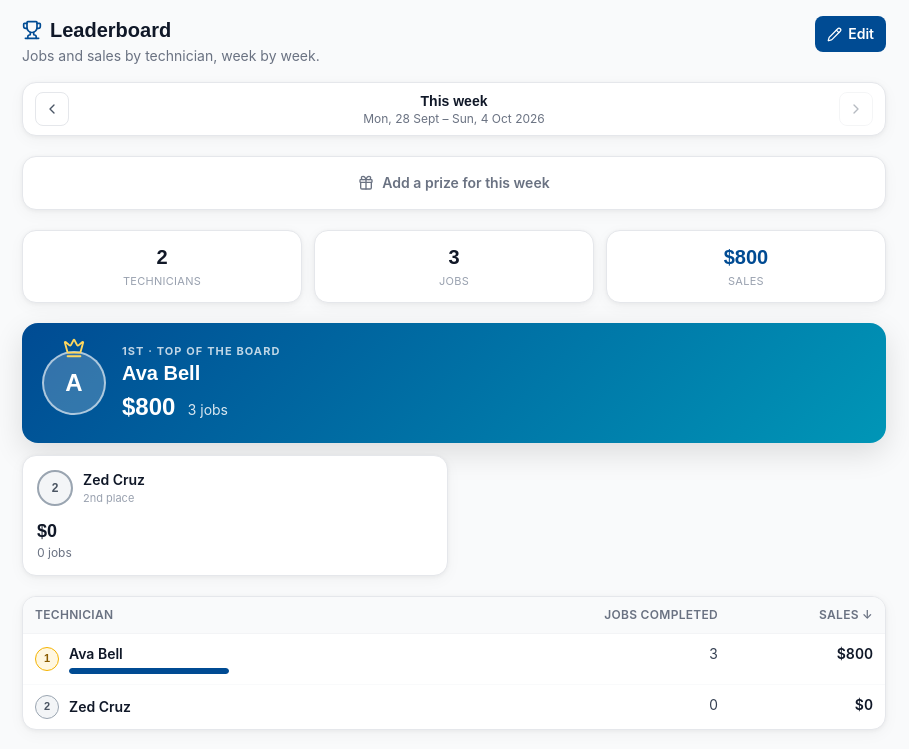
Scenario: LeaderboardPage — manager editing › refuses to save an invalid figure and says which row is wrong
Click the button "Edit": click(851, 34) [815, 16, 886, 52]
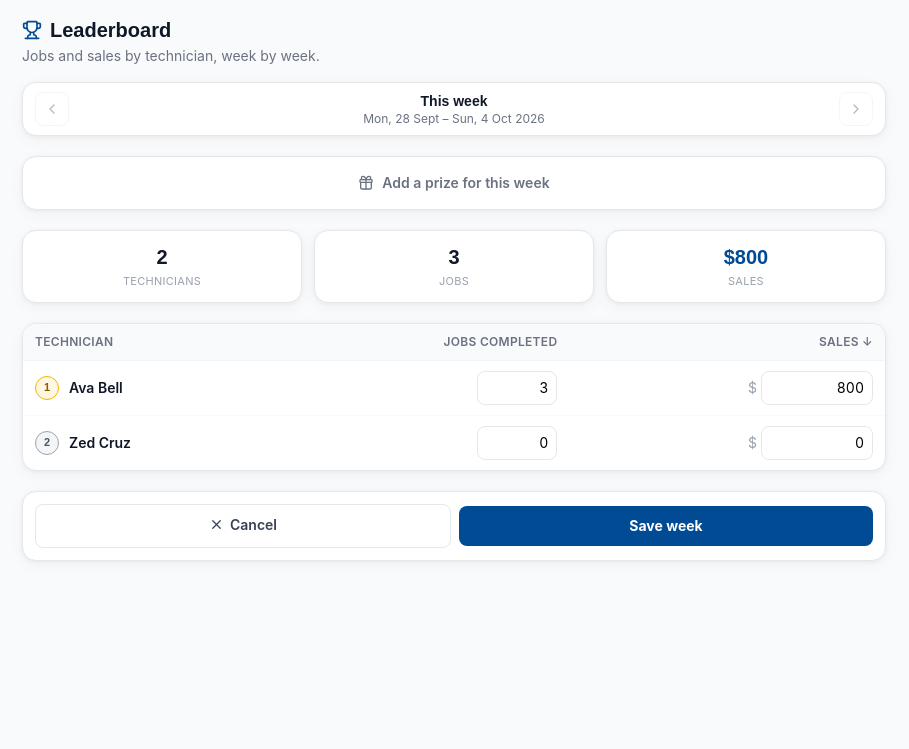
Replace the text in the 1st field named "Jobs completed for Ava Bell" with "3.5": (517, 388) [477, 370, 557, 404]
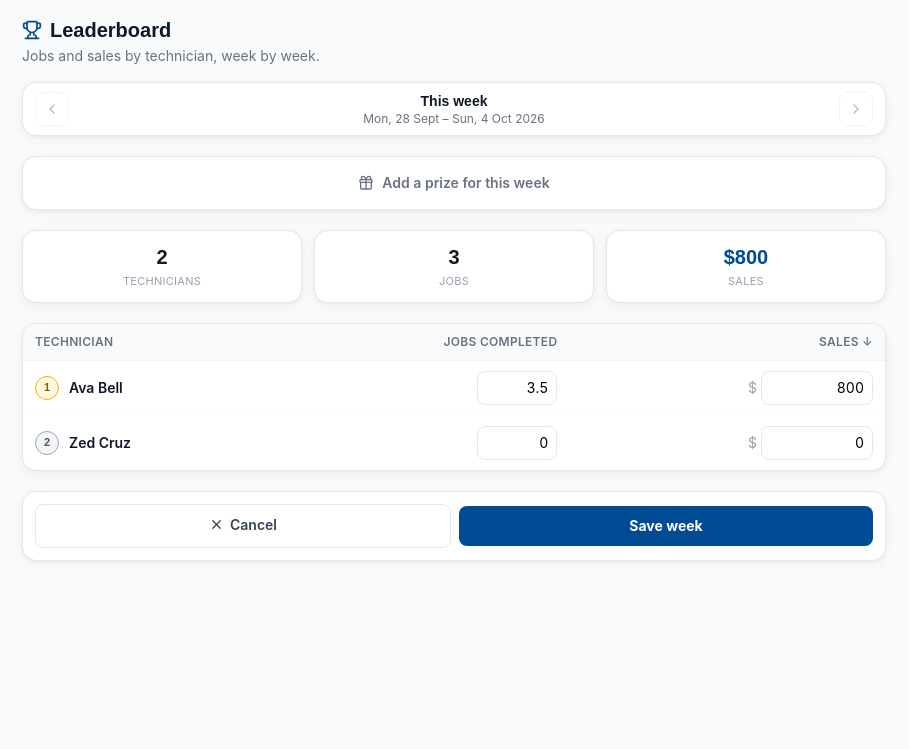
Click the button "Save week": click(666, 526) [459, 506, 873, 546]
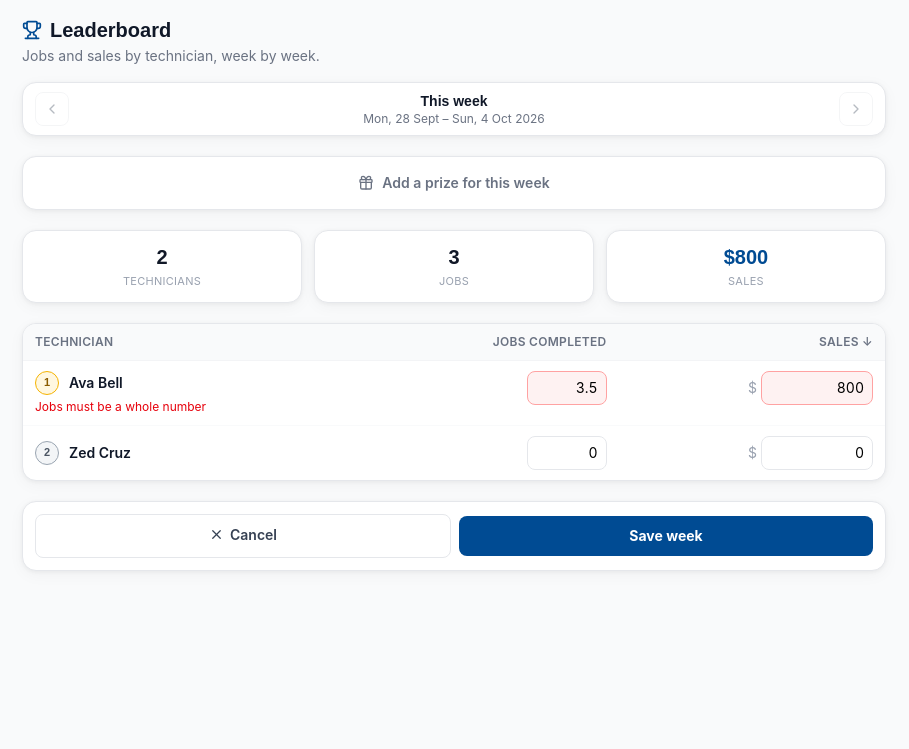
Now the message shows "whole number", box [35, 398, 206, 414]
